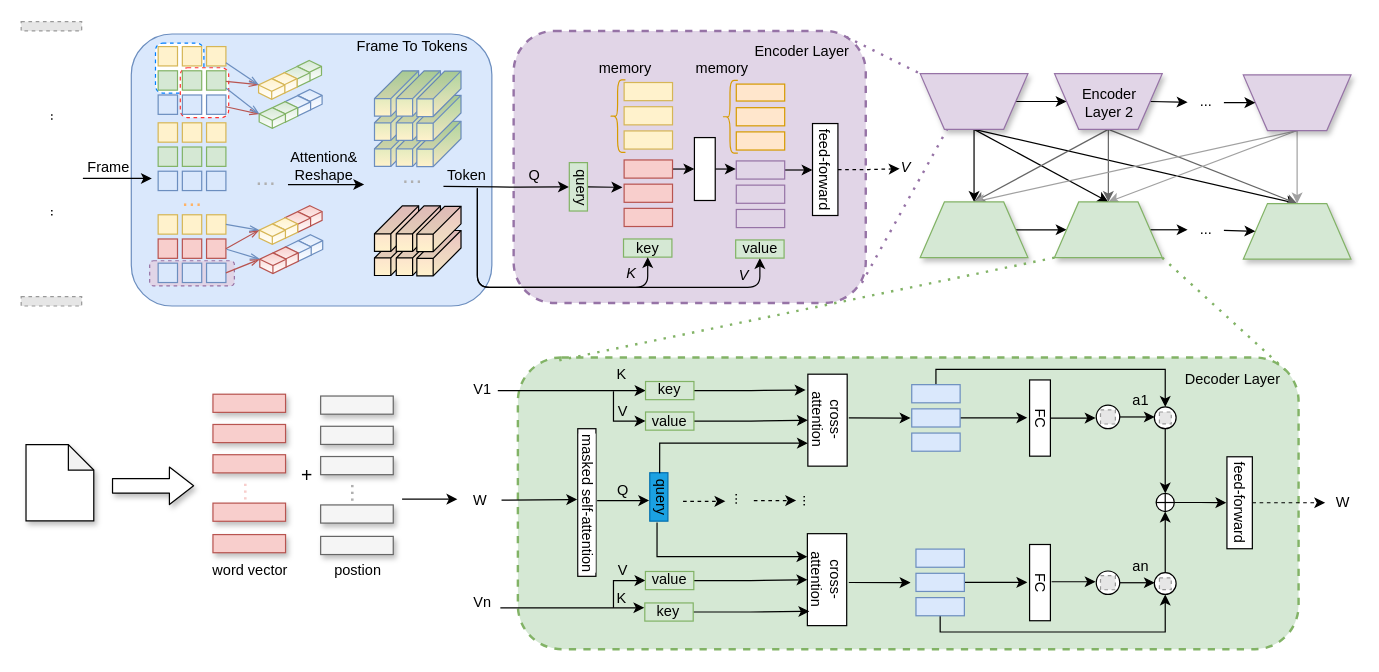
Some shapes in this 1379 by 672 pixel diagram are drawn without their labels. Grey dashed boxes stand in for pictures. The shapes that lost their labels are listed below. From the top down, each one's centre as x and y in pixels, then its label:
(974,103): Encoder Layer 1
(1297,104): Encoder Layer N
(704,168): Attention
(974,231): Decoder Layer 1
(1108,231): Decoder Layer 2
(1297,232): Decoder Layer N
(60,484): caption
